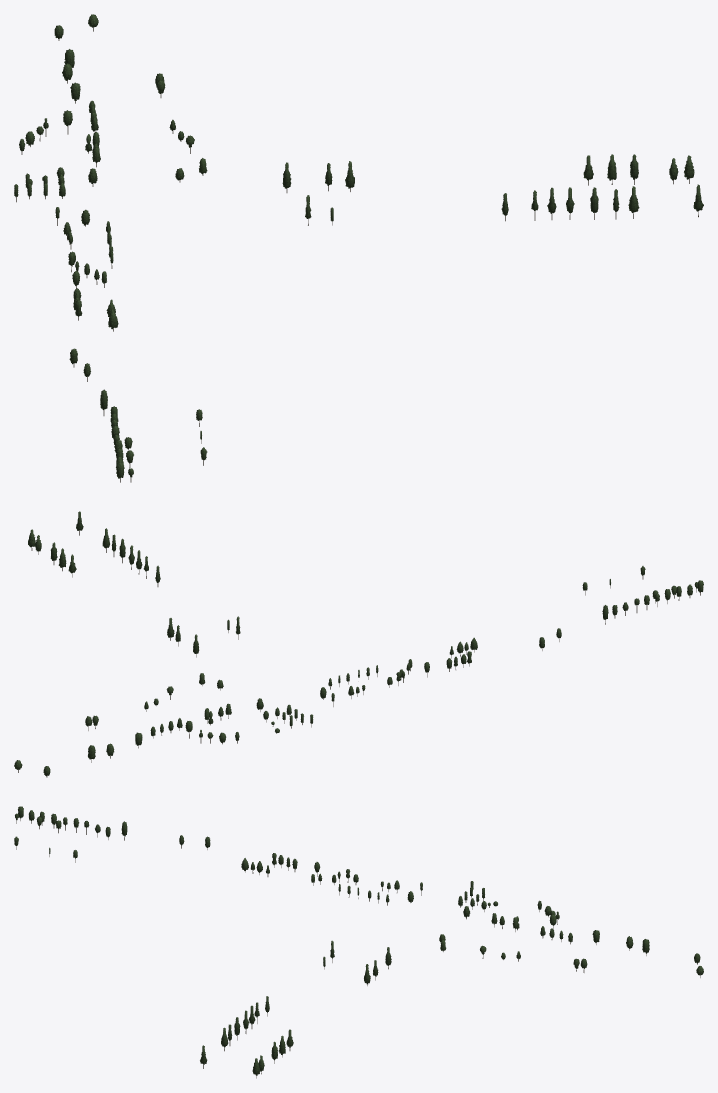
File: yaesu-street-trees.glb
3 renders of one model, top to bottom at view 1: azimuth 30°, elevation 25°; view 2: azimuth 150°, elevation 25°; view 3: azimuth 270°, elevation 25°, orthographic. The views are drawn at different scales.
Size of the model in its own units: 359 by 16.27 by 402.
Materials: 1 (1 with a texture image).
